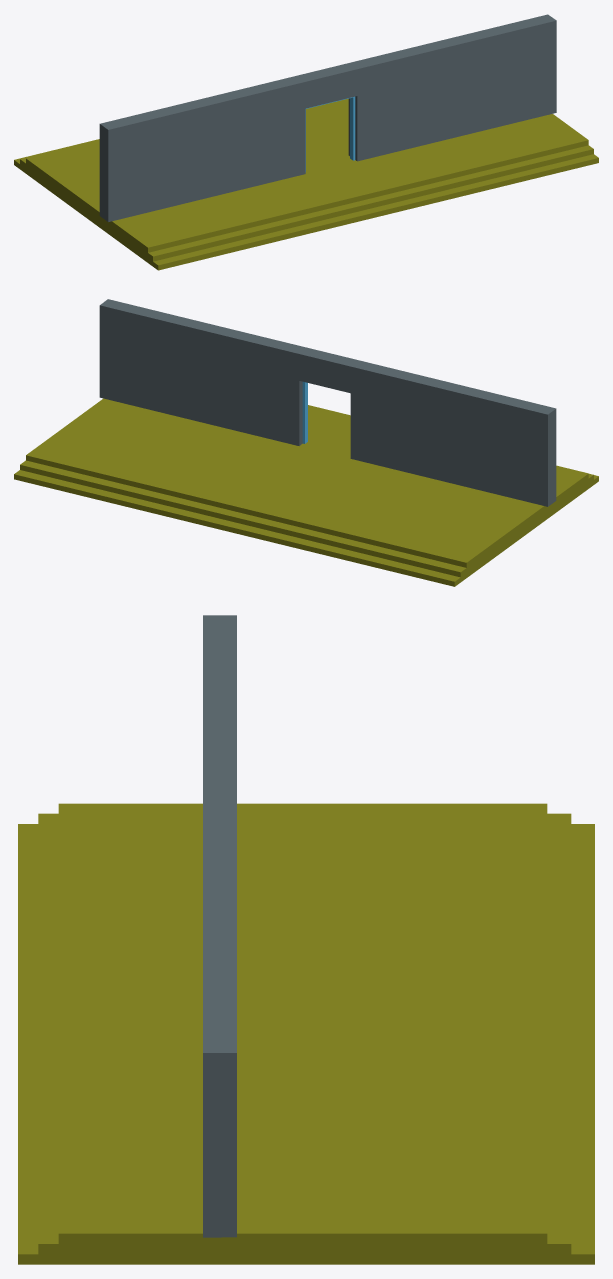
3 renders of one model, top to bottom at view 1: azimuth 30°, elevation 25°; view 2: azimuth 150°, elevation 25°; view 3: azimuth 270°, elevation 25°, orthographic. The views are drawn at different scales.
Parts seen in each view (by area): view 1: BP15_F01_01; view 2: BP15_F01_01; view 3: BP15_F01_01.
Part boxes in pixels (x1,y1,x2,y2): BP15_F01_01: [14, 14, 598, 270]; BP15_F01_01: [14, 299, 598, 586]; BP15_F01_01: [18, 615, 594, 1264].
Size of the model in its own units: 1526 by 350 by 850.
